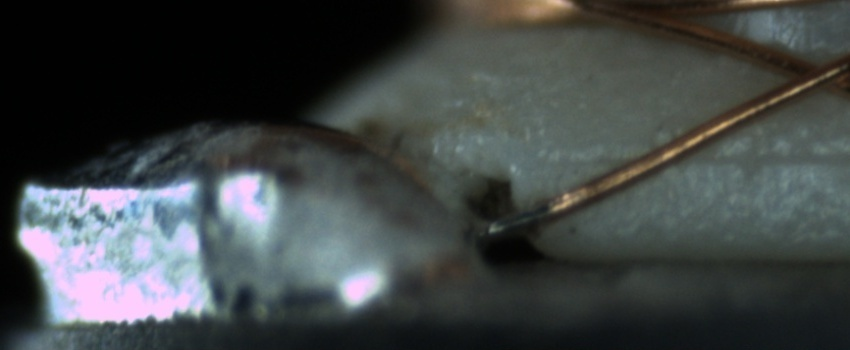CL: (767, 44, 850, 103)
DL: (550, 126, 850, 189)
TS: (487, 203, 551, 236)
